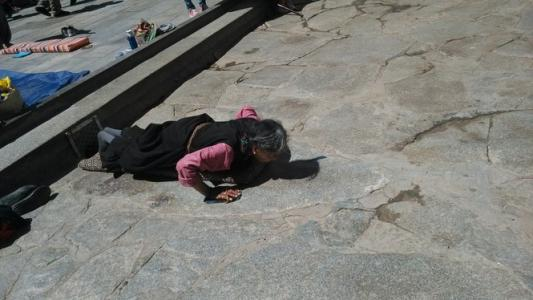fall: (0, 15, 97, 57)
